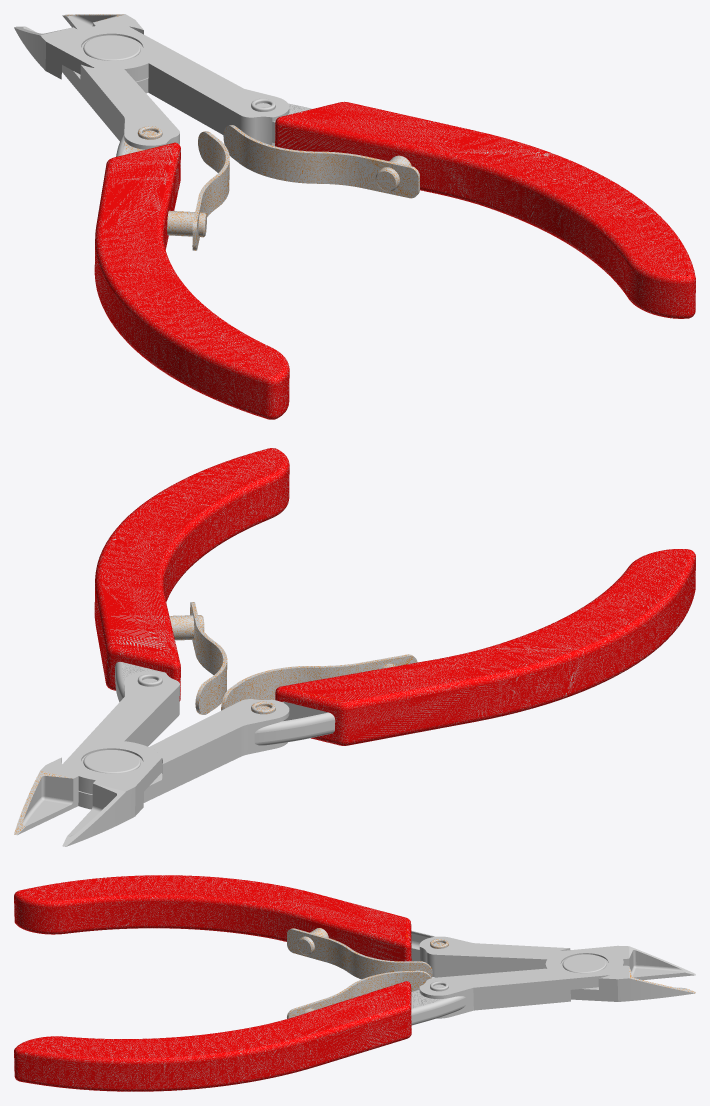
The model's file is plier7.dae.
The picture shows the model from 3 angles, top to bottom: view 1: azimuth 30°, elevation 25°; view 2: azimuth 150°, elevation 25°; view 3: azimuth 270°, elevation 25°; orthographic projection. The views are drawn at different scales.
Parts seen in each view (by area): view 1: group_4 (×3), group_2 (×2), Component_9 (×3); view 2: group_2 (×2), group_4 (×3), Component_9 (×2); view 3: group_4 (×3), group_2 (×2), Component_9 (×2).
Boxes of the visible parts, box(x1,y1,x2,y2) form: group_4 (×3): box(14, 25, 695, 318); group_2 (×2): box(62, 14, 289, 419); Component_9 (×3): box(167, 125, 419, 250); group_2 (×2): box(14, 549, 695, 834); group_4 (×3): box(62, 448, 289, 846); Component_9 (×2): box(190, 602, 417, 714); group_4 (×3): box(14, 945, 695, 1091); group_2 (×2): box(14, 875, 694, 1001); Component_9 (×2): box(287, 928, 432, 1018).
Bounding box in the file's own units: 3.98 × 6.17 × 0.4118.
